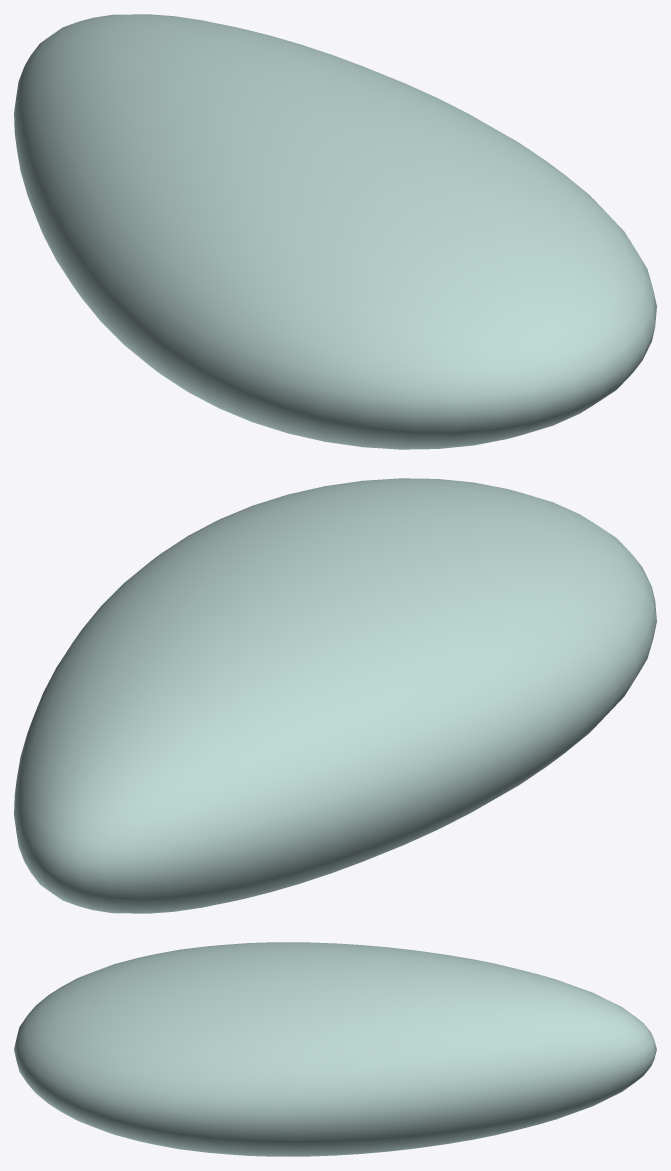
The model's file is pillow.glb.
The picture shows the model from 3 angles, top to bottom: view 1: azimuth 30°, elevation 25°; view 2: azimuth 150°, elevation 25°; view 3: azimuth 270°, elevation 25°; orthographic projection. The views are drawn at different scales.
Parts seen in each view (by area): view 1: KiabouPillow; view 2: KiabouPillow; view 3: KiabouPillow.
Part boxes in pixels (left/top/right/bottom): KiabouPillow: left=14, top=14, right=656, bottom=449; KiabouPillow: left=14, top=478, right=656, bottom=913; KiabouPillow: left=14, top=942, right=656, bottom=1156.
Bounding box in the file's own units: 0.0599 × 0.03 × 0.11.
